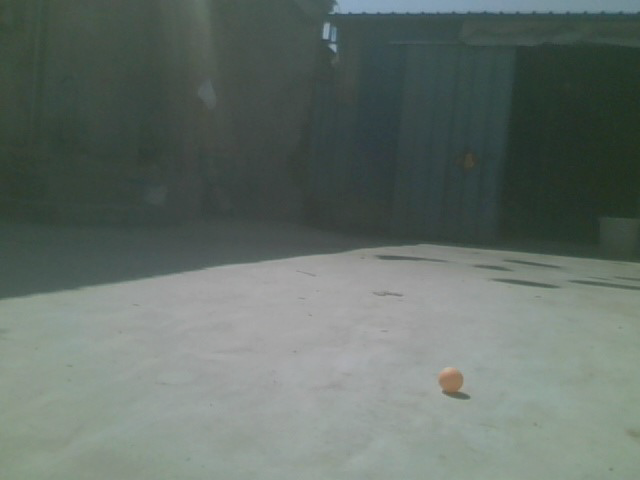ball: (439, 370, 465, 395)
